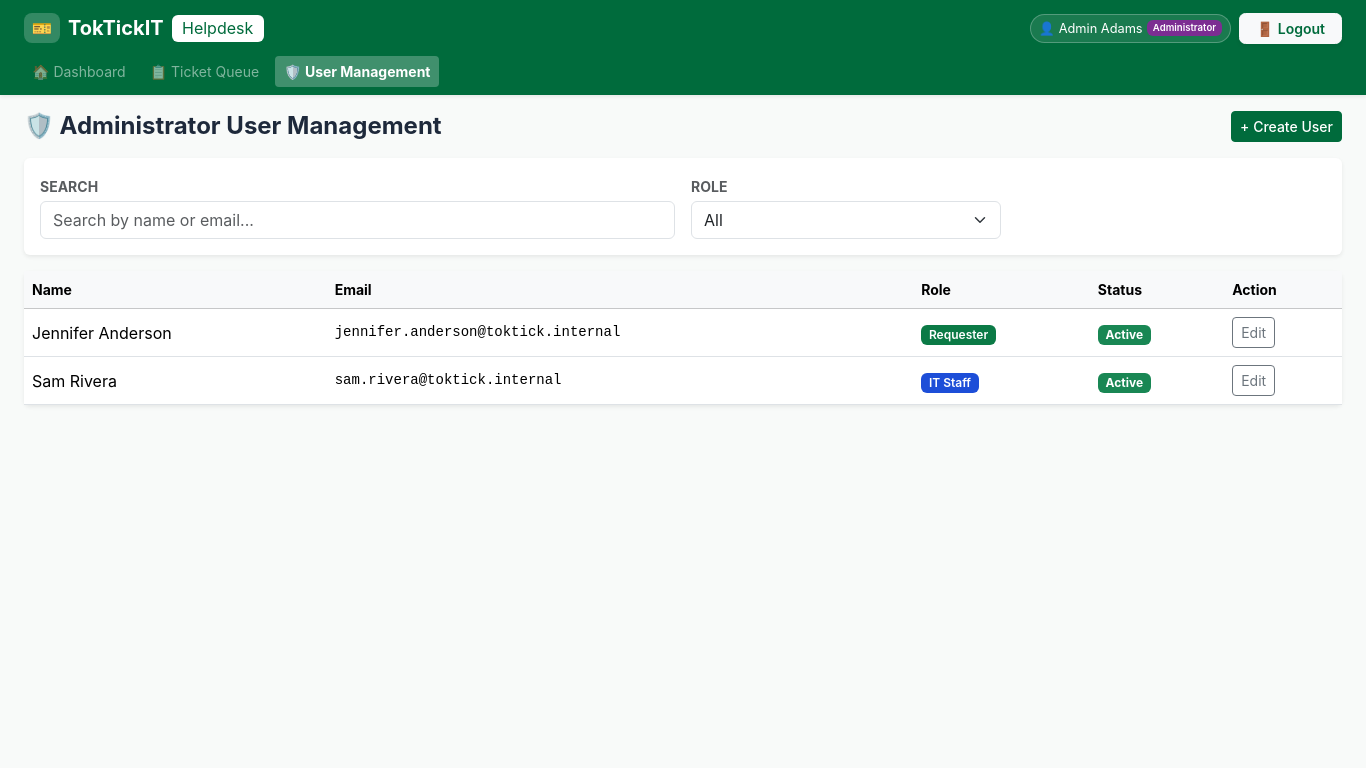
it: Administrator User Management (UI-08, UI-09) › UI-08e: duplicate-email error on create renders inline beneath the email field
Expected: the text "Jennifer Anderson" is shown, [24,309,327,357]
Step 1. Click the button "+ Create User" → {"x": 1287, "y": 127}, box [1231,111,1342,142]
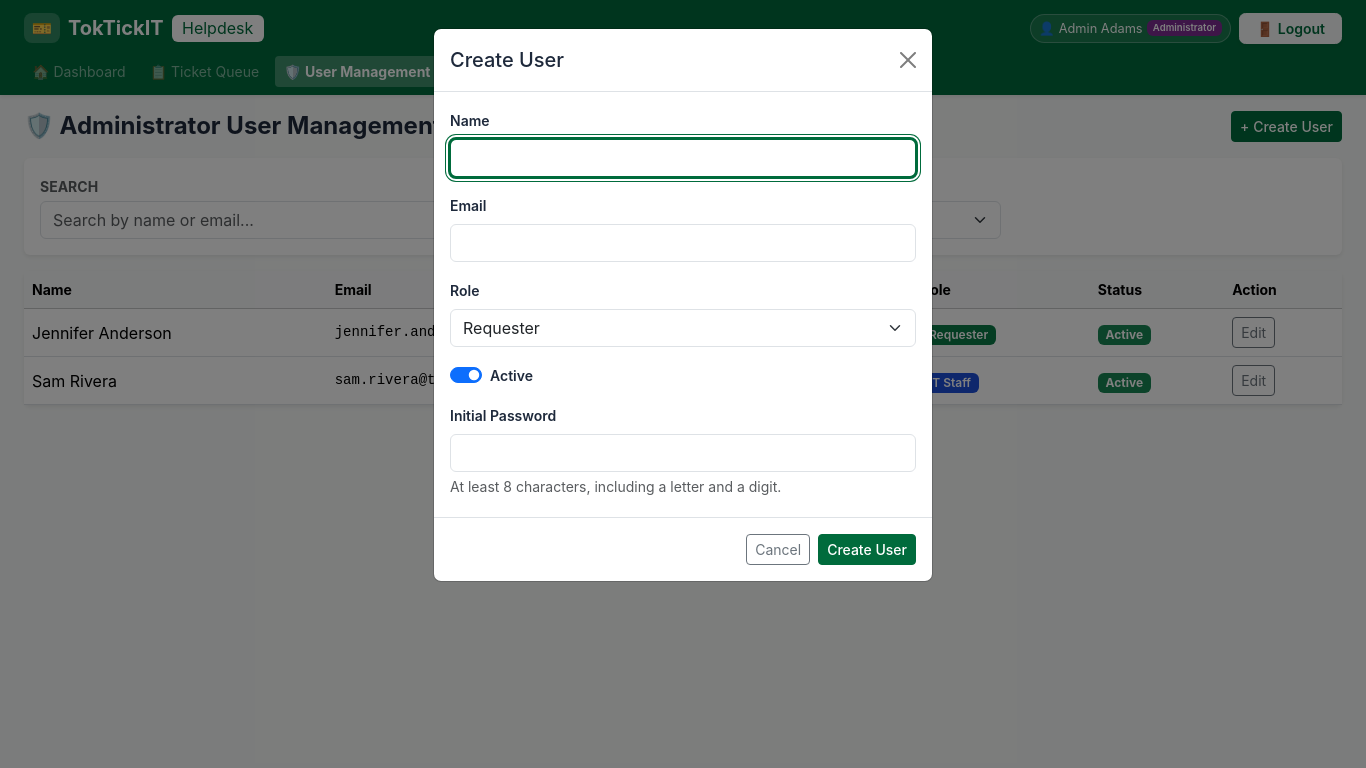
Step 2. Type "Dup" into the field with id "create-name" → {"x": 683, "y": 158}, box [450,139,916,177]
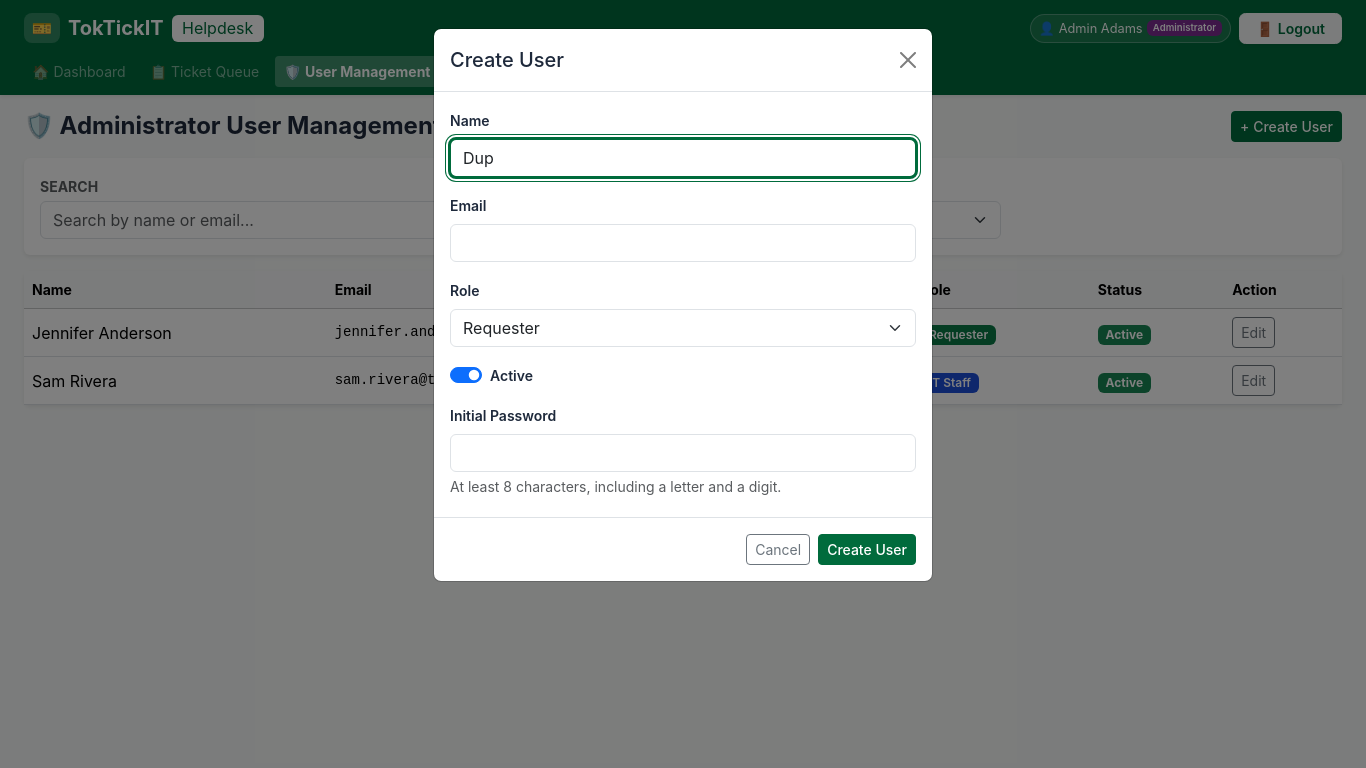
Step 3. Type "jennifer.anderson@toktick.internal" into the field with id "create-email" → {"x": 683, "y": 243}, box [450,224,916,262]
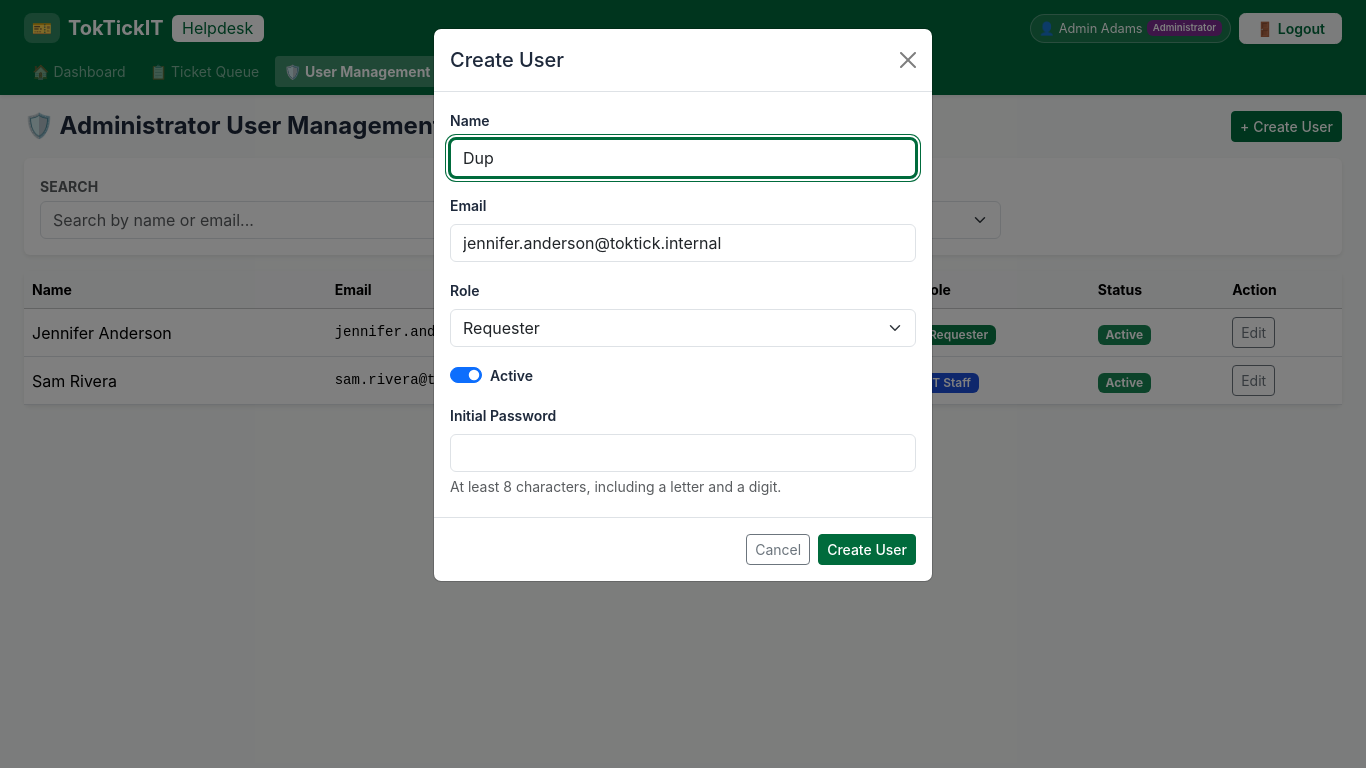
Step 4. Type "ValidPass1" into the password field with id "create-password" → {"x": 683, "y": 453}, box [450,434,916,472]
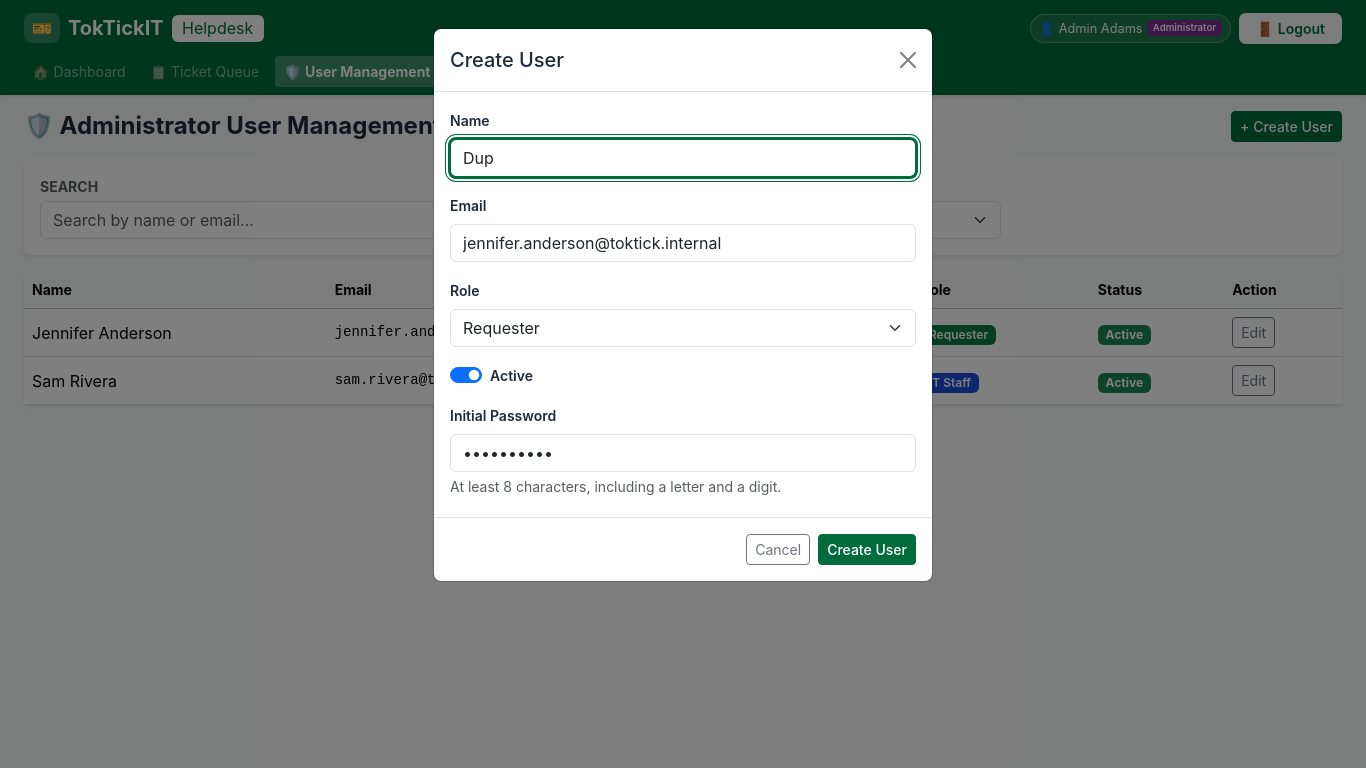
Step 5. Click the button "Create User" → {"x": 867, "y": 550}, box [818,534,916,565]
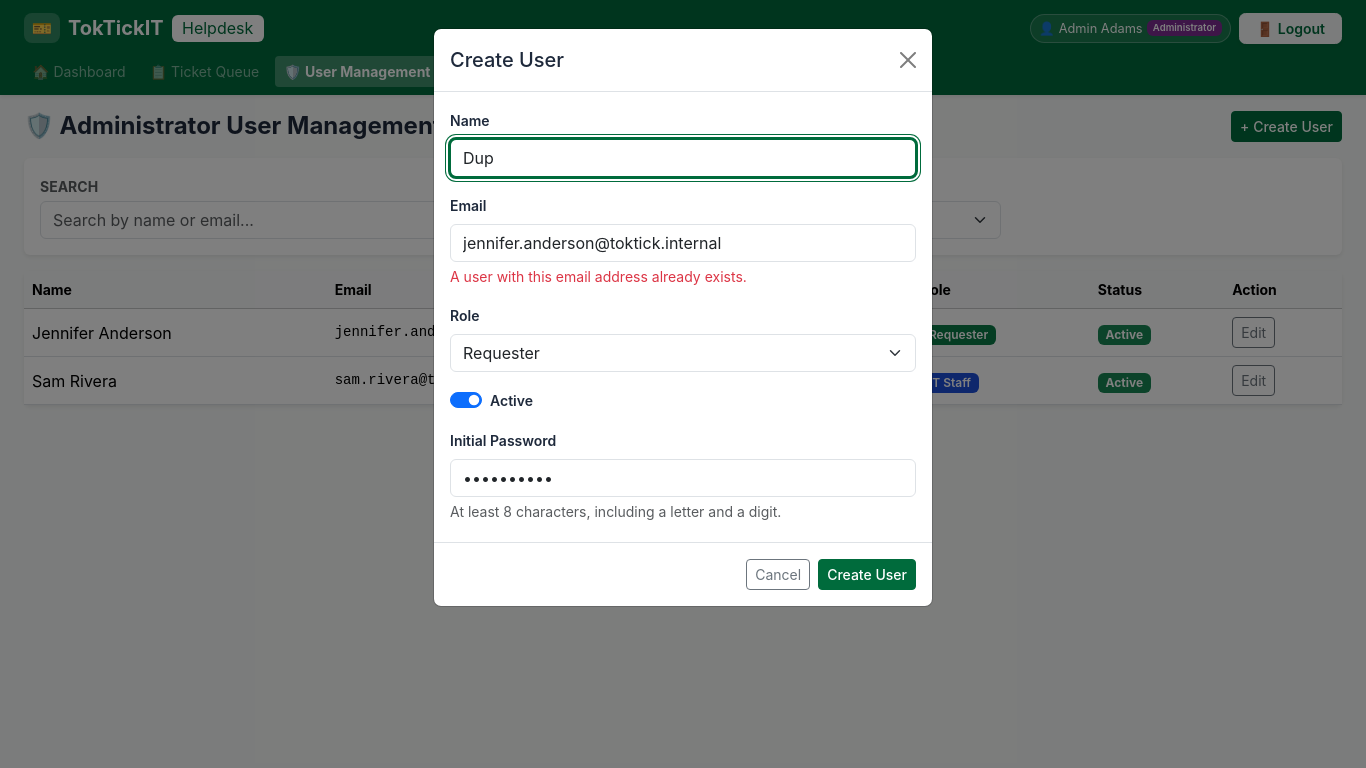
Expected: the text "A user with this email address already exists." is shown, [450,268,747,285]
